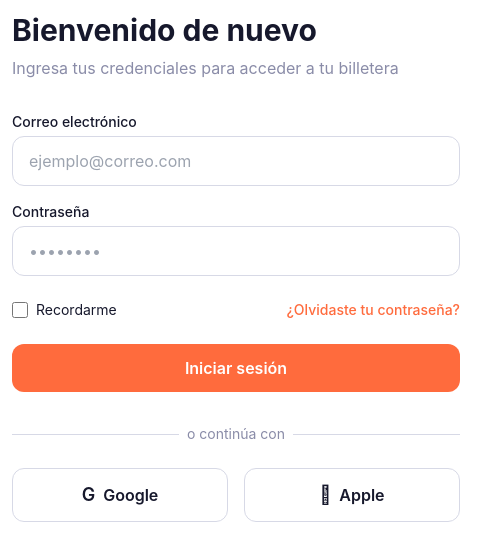
LoginForm UI › should show real-time validation error for invalid email
Step 1. Type "invalid-email" into the field labelled "Correo electrónico" → (236, 161), box top-left (12, 136), bottom-right (460, 186)
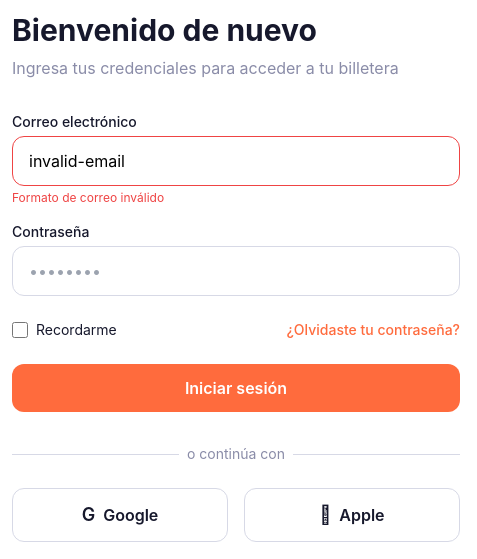
Check: the text "Formato de correo inválido" is shown, box top-left (12, 190), bottom-right (164, 205)
